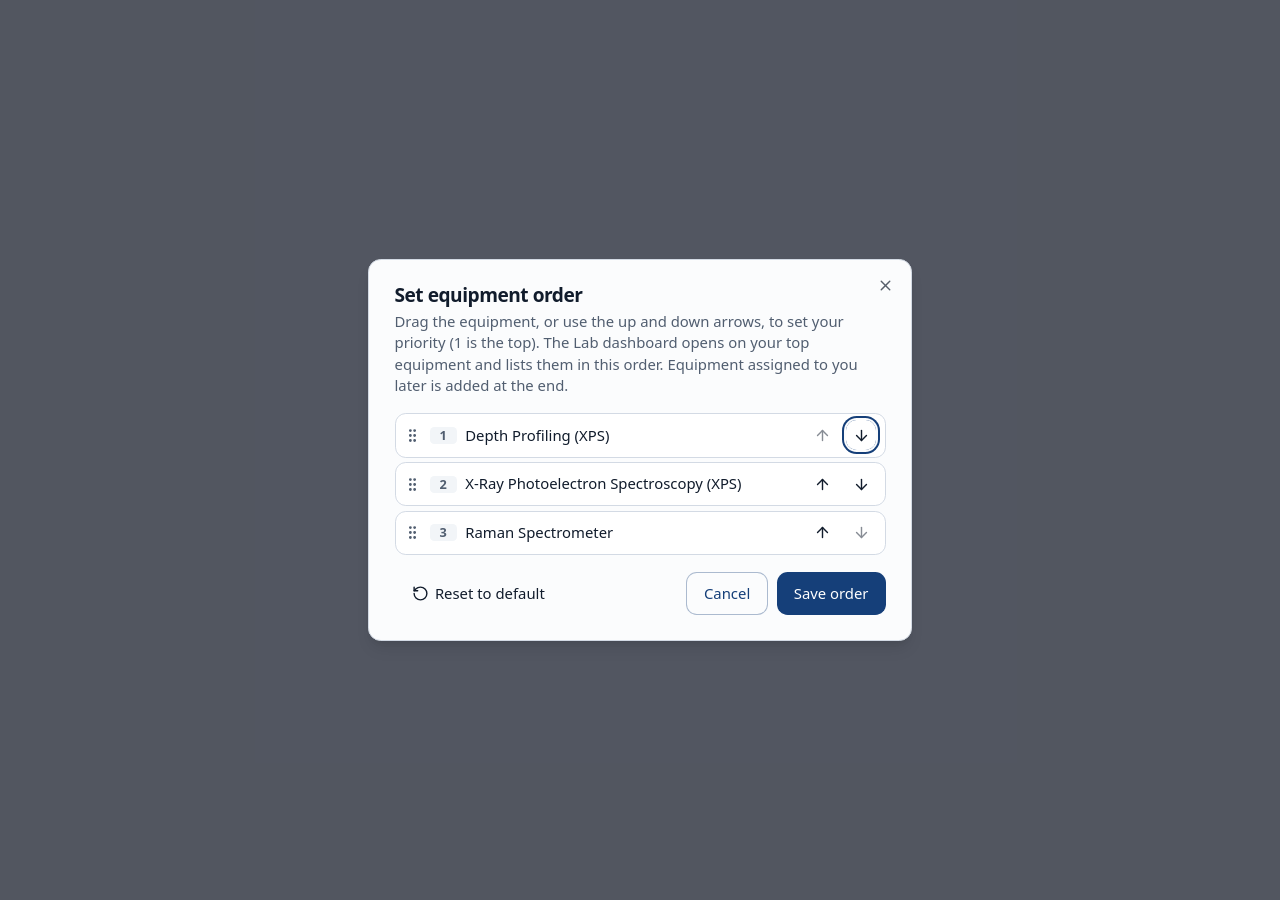
it: EquipmentOrderDialog › keeps the dialog open and shows the error when saving fails
Click the button "Save order". click: (831, 593)
box: [777, 572, 886, 614]
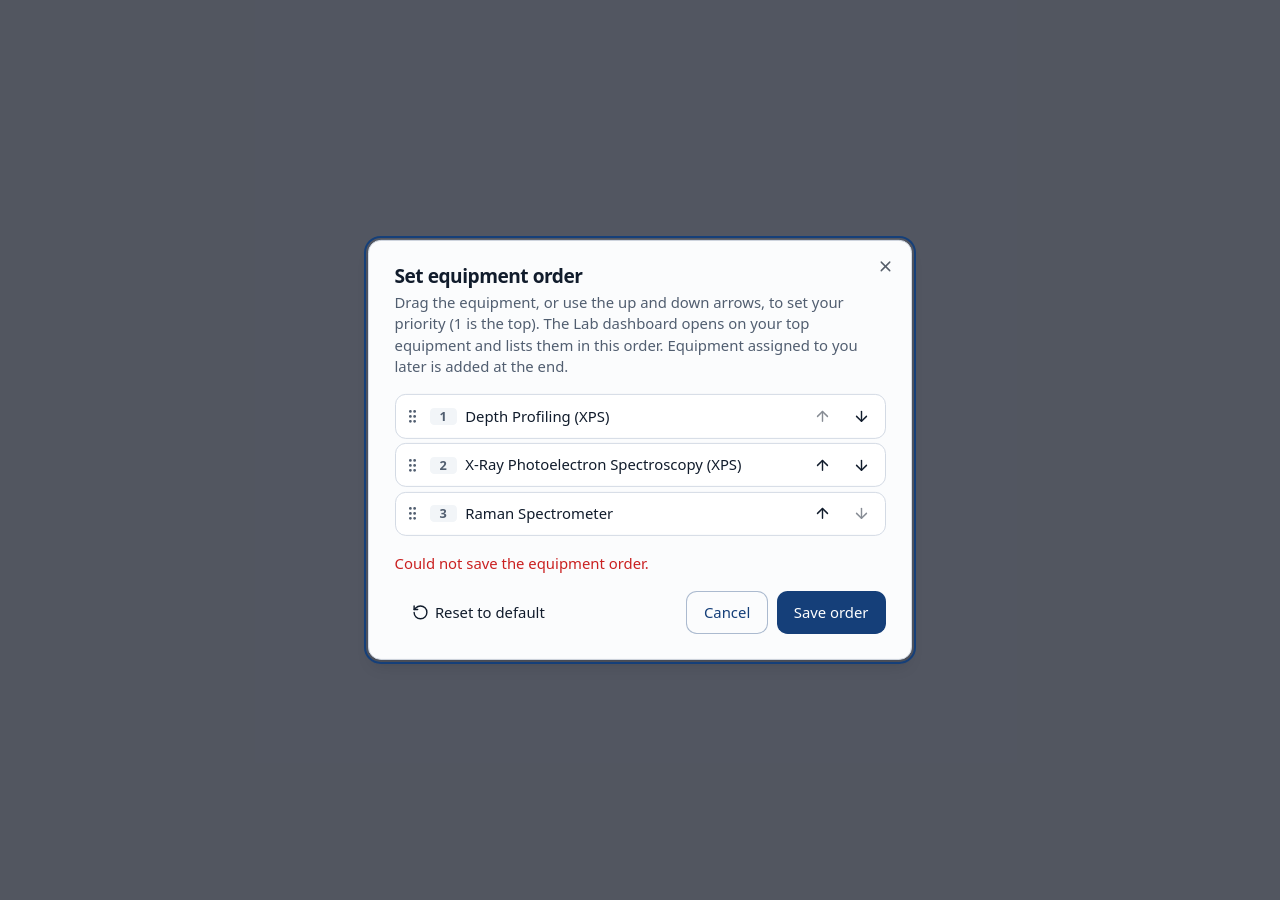
Expected: the message shows "Could not save", [394, 553, 649, 573]
